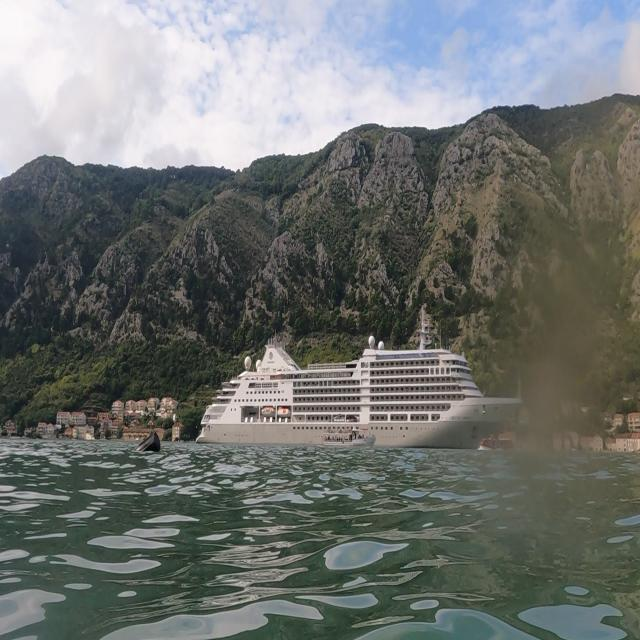boat: (194, 304, 523, 452)
buoy: (135, 423, 166, 467)
